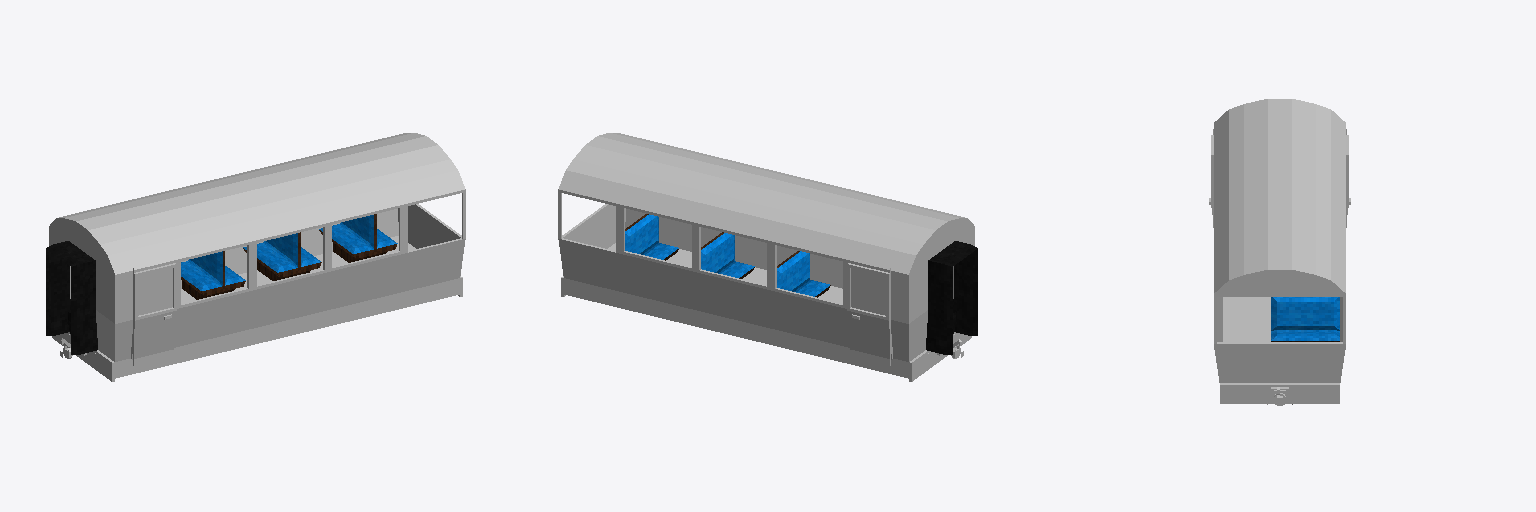
The picture shows the model from 3 angles: view 1: azimuth 30°, elevation 25°; view 2: azimuth 150°, elevation 25°; view 3: azimuth 270°, elevation 25°; orthographic projection.
Parts seen in each view (by area): view 1: FRAME_body, FRAME_corridor.001, DOOR_1_EXTERNAL, FRAME_body_int, FRAME_bench_middle.003, FRAME_bench_middle.002, FRAME_bench_middle.001, FRAME_end1; view 2: FRAME_body, FRAME_body_int, FRAME_corridor.001, DOOR_2_EXTERNAL, FRAME_bench_middle.002, FRAME_bench_middle.003, FRAME_bench_middle.001, FRAME_end1; view 3: FRAME_body, FRAME_bench_middle.003, FRAME_end2, FRAME_2, FRAME_3, FRAME_body_int.
Boxes of the visible parts, x1=… form: FRAME_body: x1=49, y1=133, x2=465, y2=378; FRAME_corridor.001: x1=46, y1=241, x2=97, y2=354; DOOR_1_EXTERNAL: x1=131, y1=263, x2=176, y2=359; FRAME_body_int: x1=181, y1=193, x2=462, y2=304; FRAME_bench_middle.003: x1=319, y1=214, x2=397, y2=262; FRAME_bench_middle.002: x1=243, y1=232, x2=321, y2=280; FRAME_bench_middle.001: x1=181, y1=251, x2=245, y2=299; FRAME_end1: x1=52, y1=332, x2=114, y2=381; FRAME_body: x1=558, y1=133, x2=974, y2=378; FRAME_body_int: x1=561, y1=193, x2=842, y2=304; FRAME_corridor.001: x1=926, y1=241, x2=977, y2=354; DOOR_2_EXTERNAL: x1=847, y1=263, x2=892, y2=359; FRAME_bench_middle.002: x1=701, y1=232, x2=754, y2=278; FRAME_bench_middle.003: x1=625, y1=214, x2=678, y2=260; FRAME_bench_middle.001: x1=777, y1=251, x2=830, y2=297; FRAME_end1: x1=909, y1=332, x2=971, y2=381; FRAME_body: x1=1214, y1=99, x2=1345, y2=382; FRAME_bench_middle.003: x1=1271, y1=297, x2=1339, y2=341; FRAME_end2: x1=1220, y1=383, x2=1339, y2=403; FRAME_2: x1=1223, y1=297, x2=1270, y2=322; FRAME_3: x1=1223, y1=323, x2=1270, y2=341; FRAME_body_int: x1=1217, y1=297, x2=1342, y2=343.
Size of the model in its own units: 9.44 by 3.31 by 2.94.
6 materials, 2 textured.